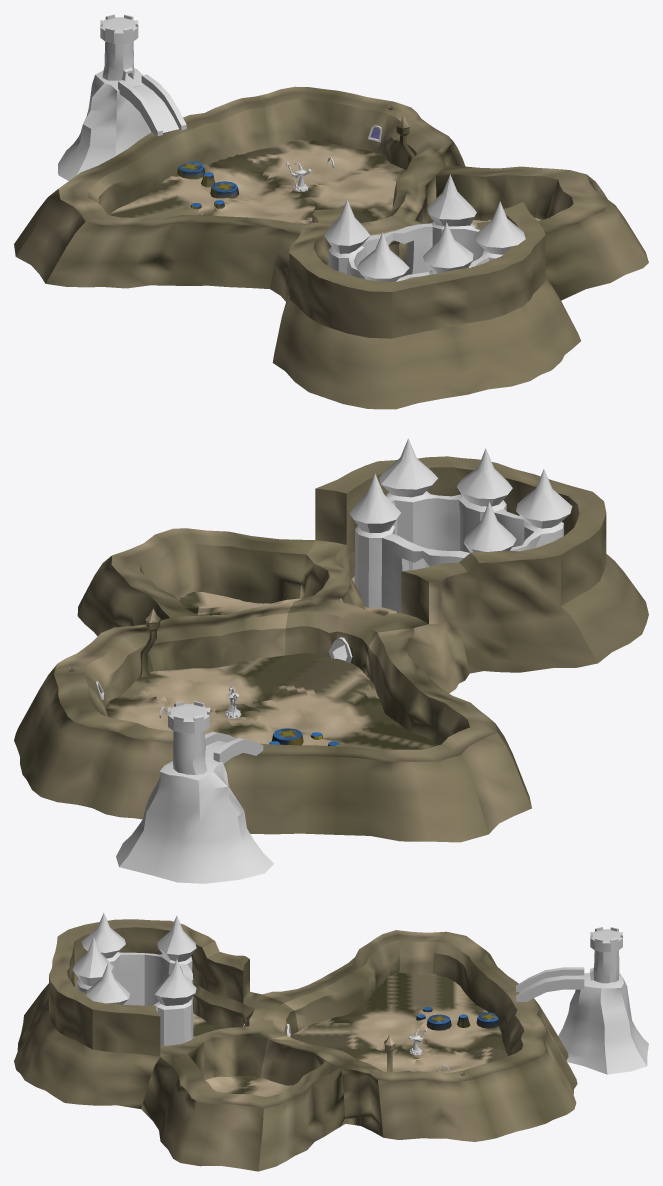
3 views of the same model, one above another, from view 1: azimuth 30°, elevation 25°; view 2: azimuth 150°, elevation 25°; view 3: azimuth 270°, elevation 25° (orthographic). The views are drawn at different scales.
Visible parts, largest first — view 1: LVL; view 2: LVL; view 3: LVL.
Part boxes in pixels (bbox=[...]): LVL: bbox=[14, 14, 648, 409]; LVL: bbox=[14, 438, 648, 883]; LVL: bbox=[14, 913, 648, 1171].
Bounding box in the file's own units: 22365 × 6447 × 28895.
